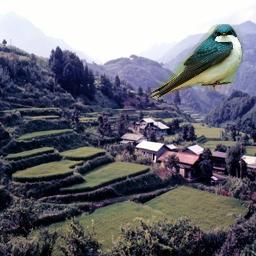Swallow: (147, 24, 243, 99)
